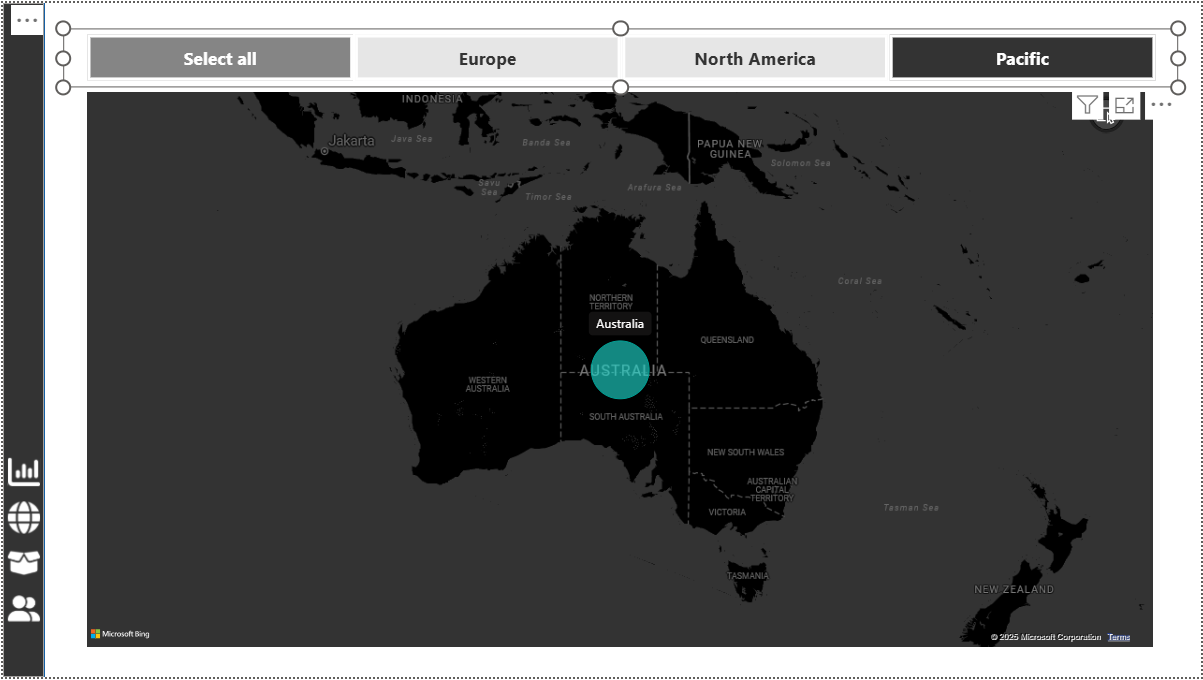

Layout of this report page (visuals, bound fields, positions):
{"tool":"powerbi","page":{"name":"Map","canvas":[1280,720],"ordinal":1},"visuals":[{"type":"shape","box":[0,0,45,719.9],"z":0},{"type":"actionButton","box":[1.3,527.9,62.3,42.4],"z":0,"group":"g1"},{"type":"map","fields":{"Category":["Territory Lookup.Country"],"Size":["Measure Table.Total Orders"]},"box":[84.8,90.1,1149.4,603.2],"z":1000},{"type":"actionButton","box":[1.3,576.5,62.3,42.4],"z":1000,"group":"g1"},{"type":"slicer","fields":{"Values":["Territory Lookup.Continent"]},"box":[65,27.8,1190.5,62.3],"z":2000},{"type":"actionButton","box":[1.3,625.1,62.3,42.4],"z":2000,"group":"g1"},{"type":"group","id":"g1","title":"Navigation Buttons","box":[1.3,479.3,62.3,188.2],"z":3000},{"type":"actionButton","box":[1.3,479.3,62.3,42.4],"z":3000,"group":"g1"}]}

Visuals, with their boxes in screenshot pixels (x1, y1, x2, y2):
shape: Rect(0, 3, 42, 670)
actionButton: Rect(1, 492, 59, 532)
map - Territory Lookup.Country x Measure Table.Total Orders: Rect(79, 87, 1144, 646)
actionButton: Rect(1, 537, 59, 577)
slicer - Territory Lookup.Continent: Rect(60, 29, 1164, 87)
actionButton: Rect(1, 583, 59, 622)
"Navigation Buttons" group: Rect(1, 447, 59, 622)
actionButton: Rect(1, 447, 59, 487)
